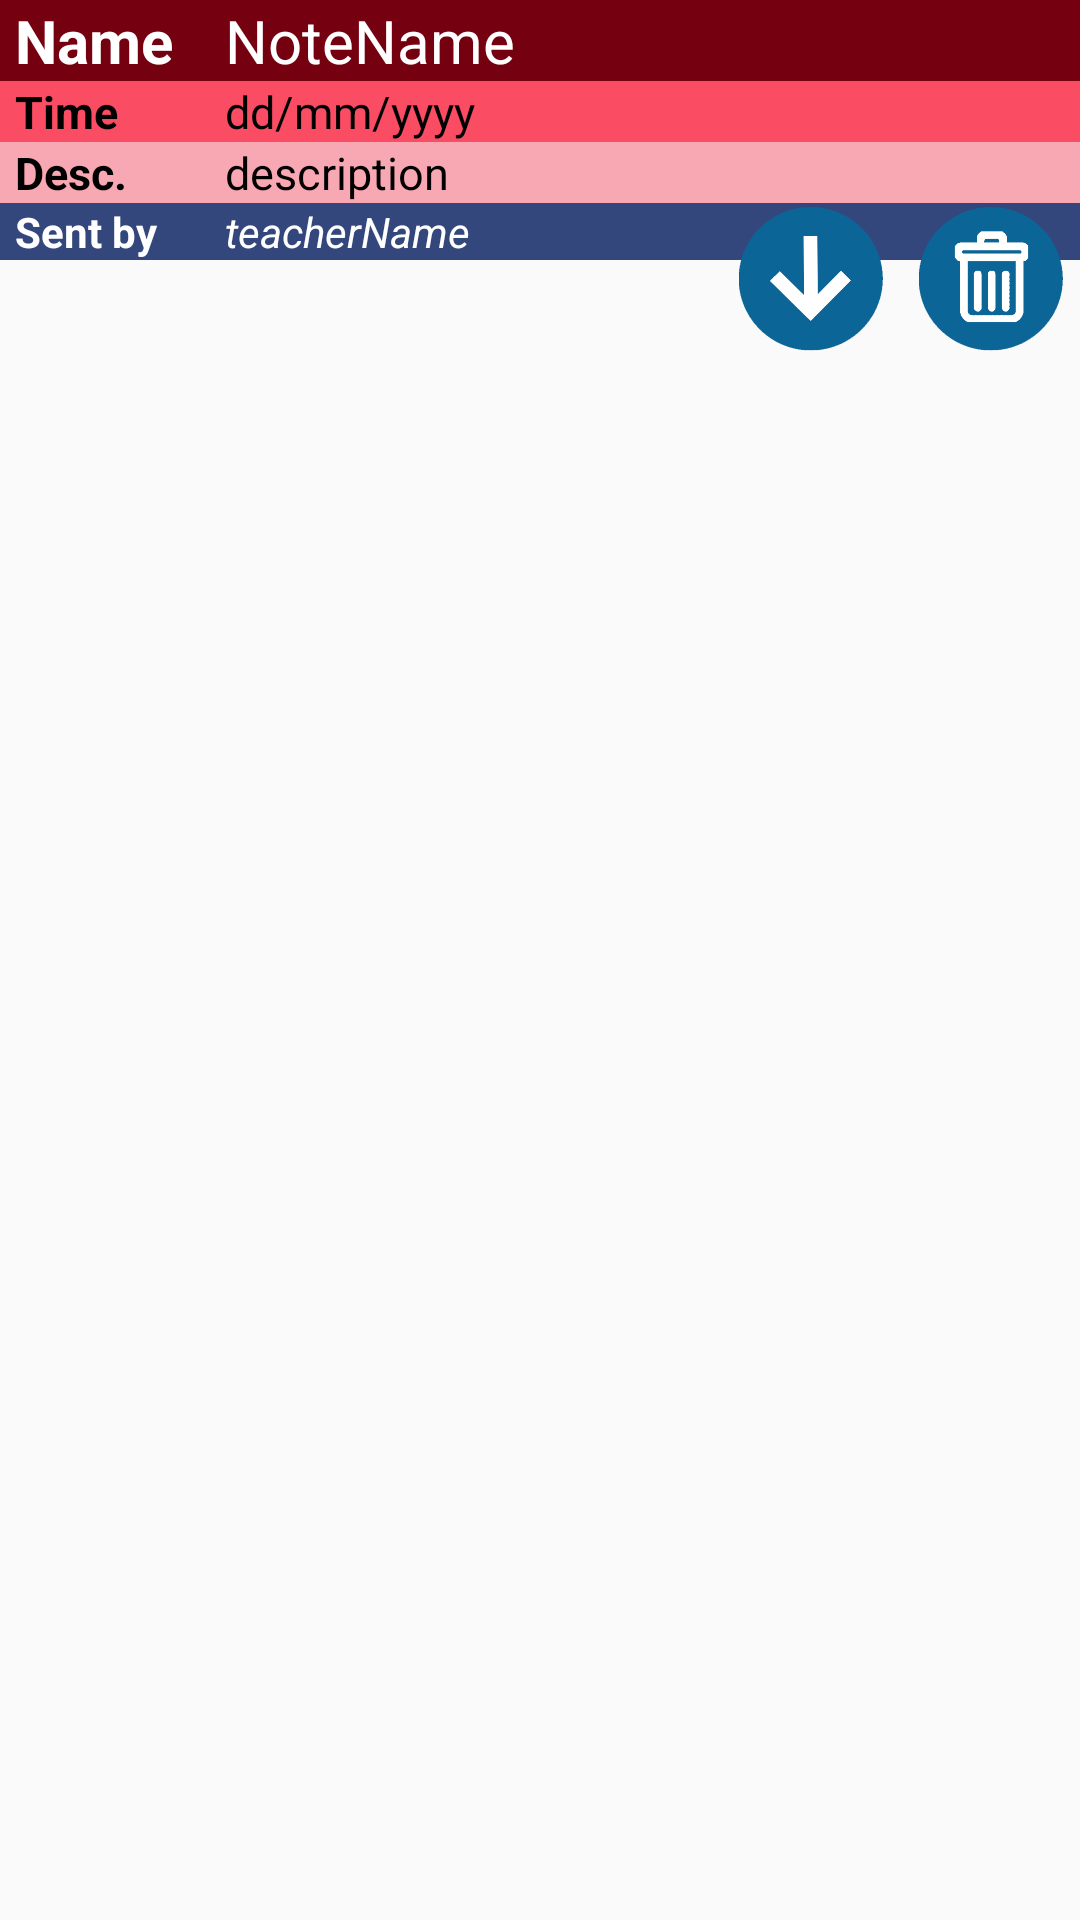

Icon click points for this 1080px×1920px phone screenshot, format (x,y):
note delete: (990,278)
note download: (810,278)
